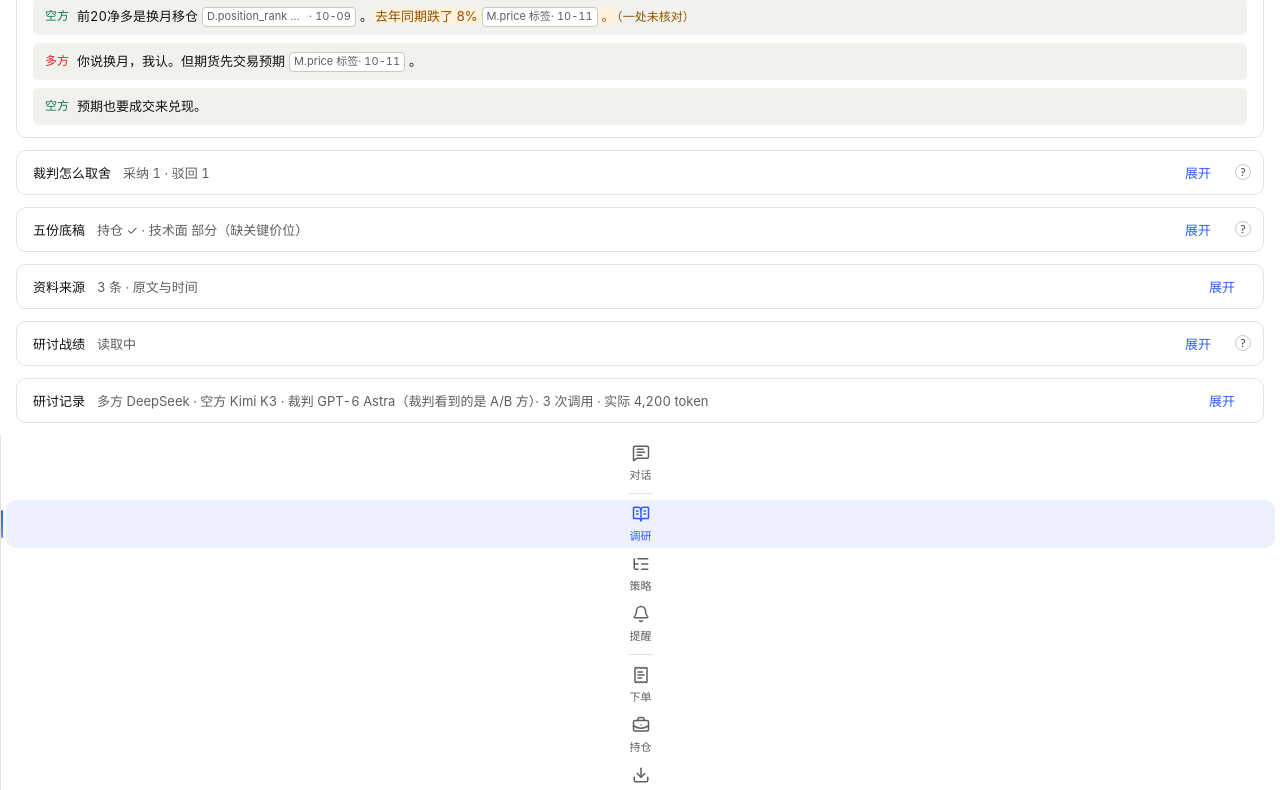
Test: 空方换了兜底模型：研讨记录显示实际说话的模型，顶替的那次写明换下了谁、为什么
The image size is (1280, 790).
(page scrolled)
Click the button with aria-label "展开研讨记录". click: click(634, 400)
box: [17,379,1251,422]
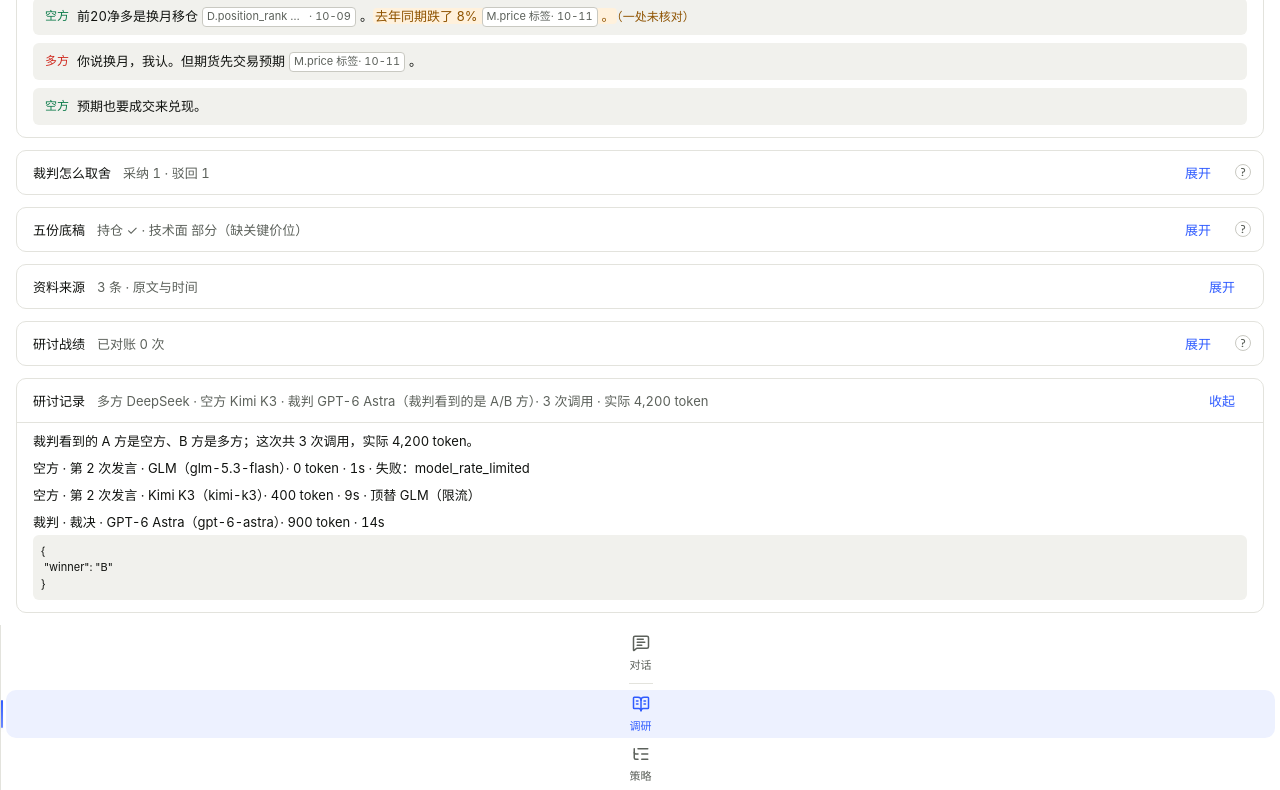
Now the text "空方 · 第 2 次发言 · Kimi K3（kimi-k3）· 400 token · 9s · 顶替 GLM（限流）" is shown, box [33,487,481,503]
Now the text "GLM（glm-5.3-flash）· 0 token · 1s · 失败：model_rate_limited" is shown, box [33,460,530,476]
